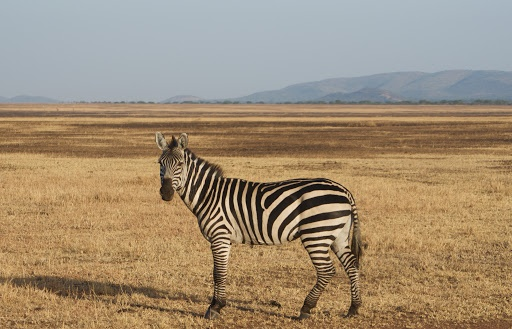zebra: (154, 127, 366, 317)
